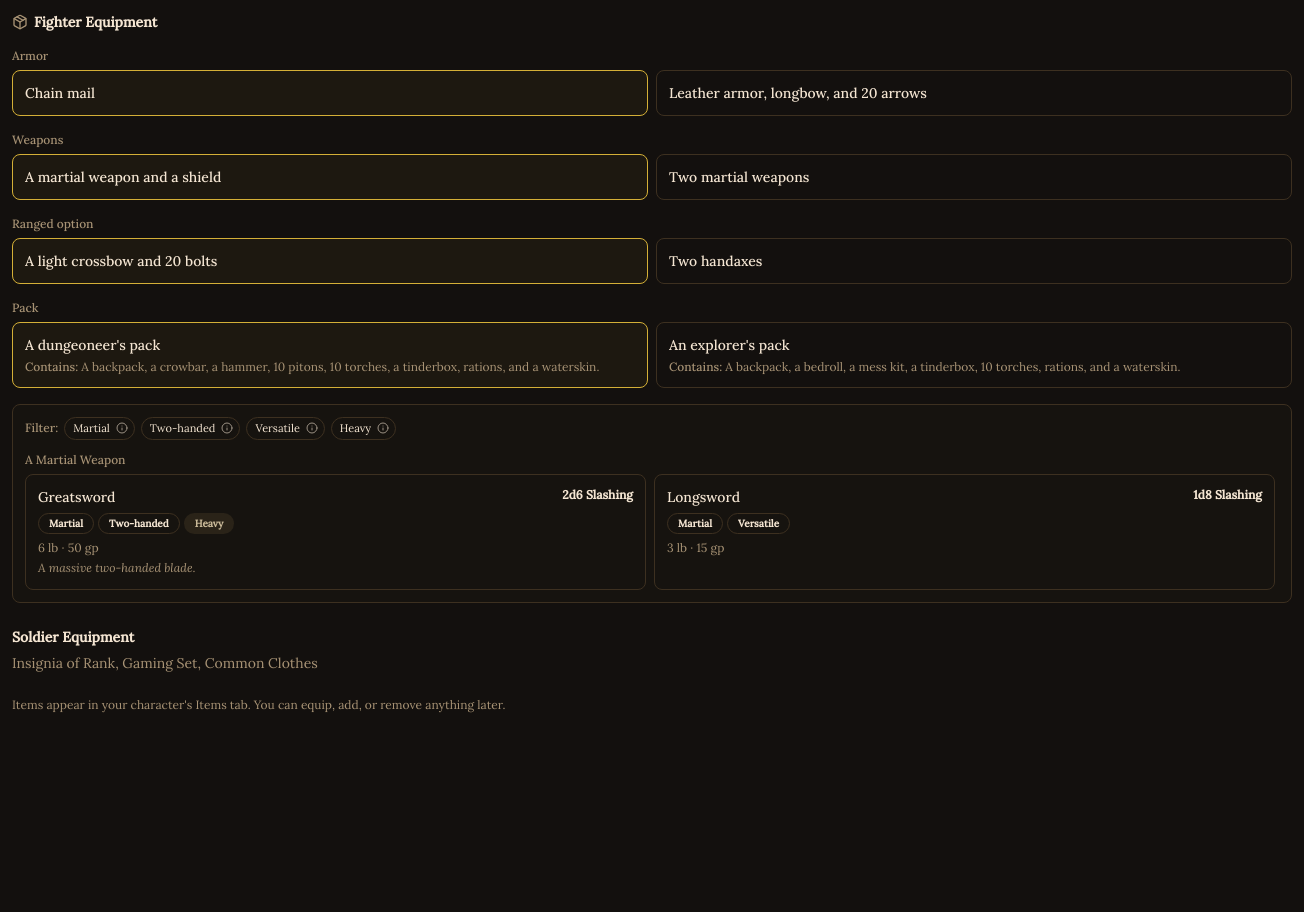
Test case: StartingEquipmentStep › explains a weapon attribute when its badge is clicked
Click the button with test id "weapon-prop-Heavy" at (209, 523), box x1=184 y1=512 x2=234 y2=534
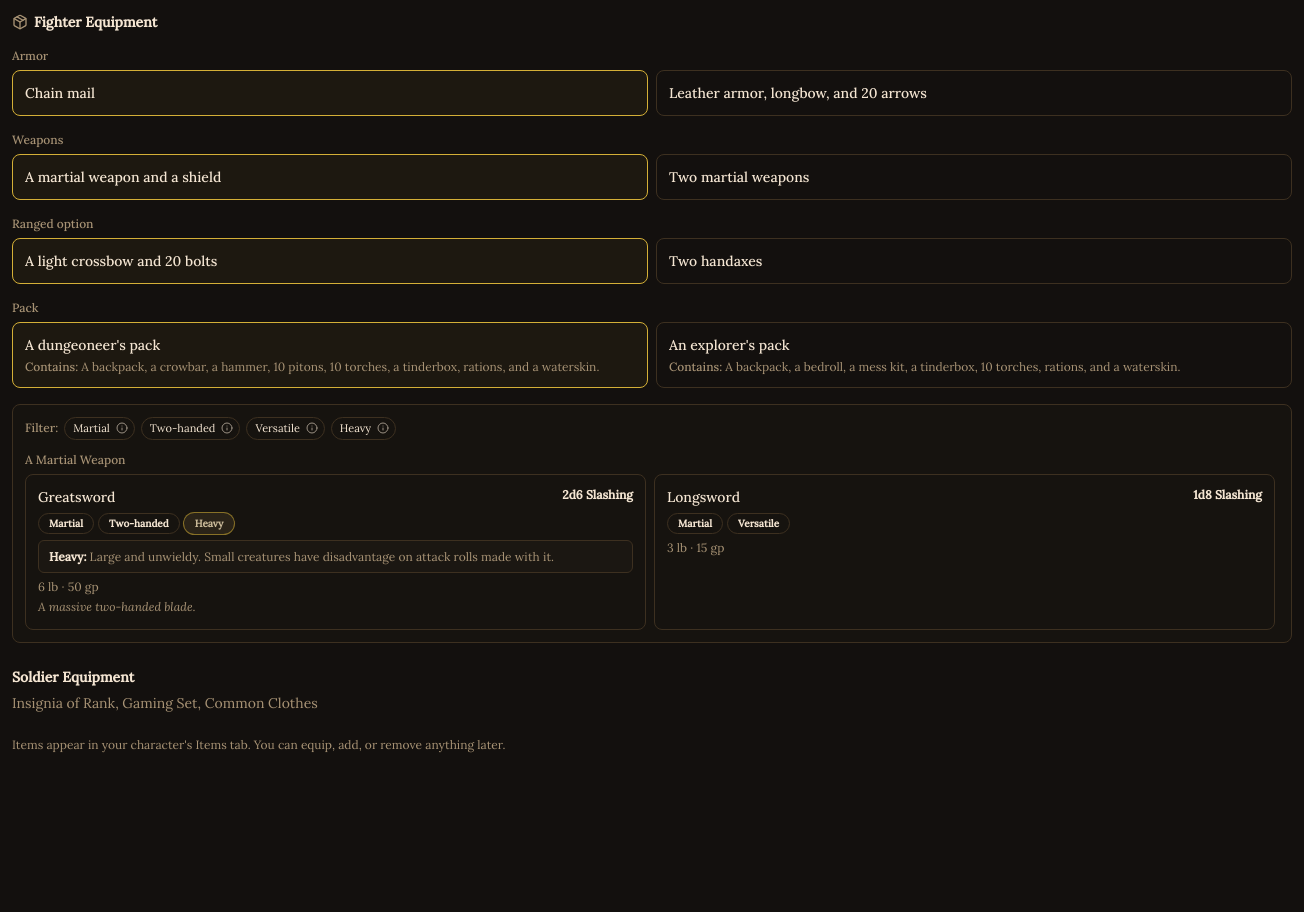
Now the element with test id "weapon-prop-description" shows "disadvantage", box x1=90 y1=548 x2=554 y2=564
